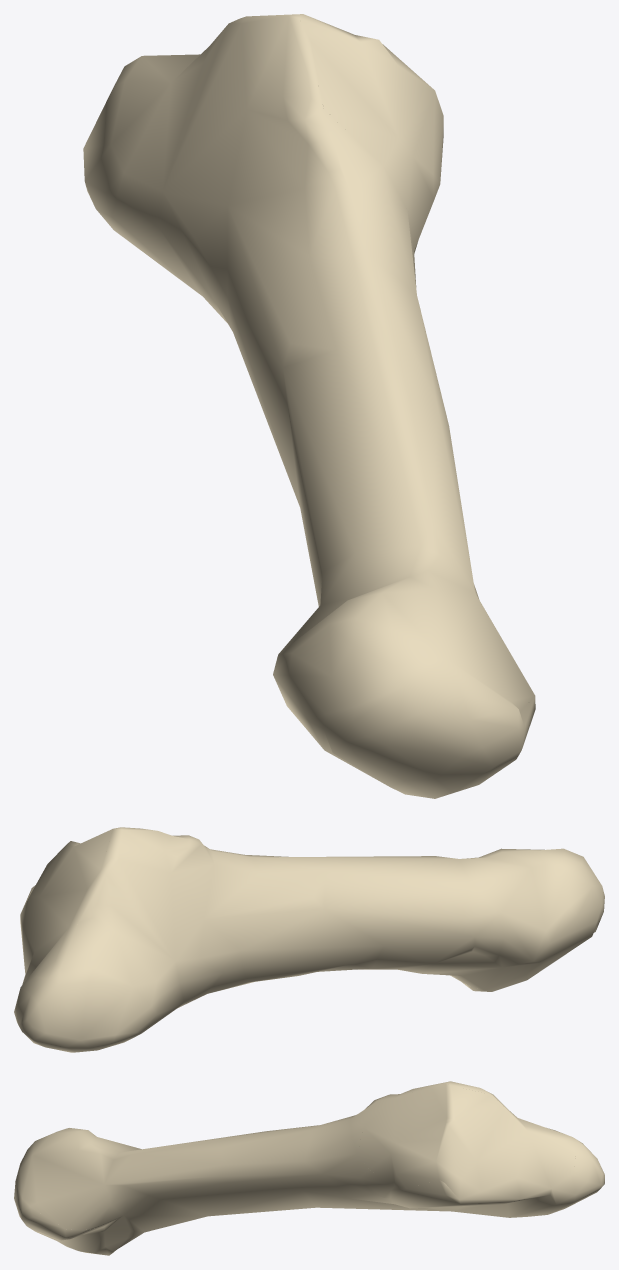
File: esqueleto-fifth-metatarsal-bone-r.glb
3 views of the same model, one above another, from view 1: azimuth 30°, elevation 25°; view 2: azimuth 150°, elevation 25°; view 3: azimuth 270°, elevation 25° (orthographic). The views are drawn at different scales.
Visible parts, largest first — view 1: Fifth metatarsal bone.r; view 2: Fifth metatarsal bone.r; view 3: Fifth metatarsal bone.r.
Boxes of the visible parts, x1=… form: Fifth metatarsal bone.r: x1=83, y1=14, x2=535, y2=798; Fifth metatarsal bone.r: x1=14, y1=827, x2=604, y2=1052; Fifth metatarsal bone.r: x1=14, y1=1081, x2=604, y2=1255.
Size of the model in its own units: 0.037 by 0.0312 by 0.0737.
